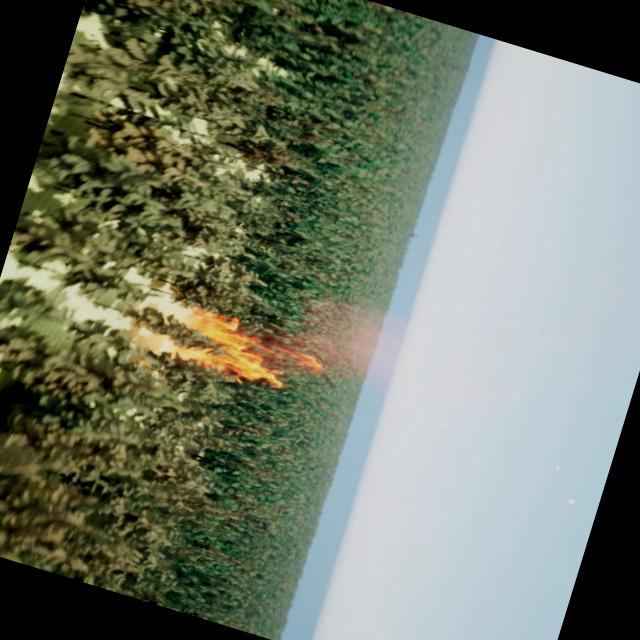fire: (165, 300, 324, 402)
smoke: (280, 284, 419, 399)
